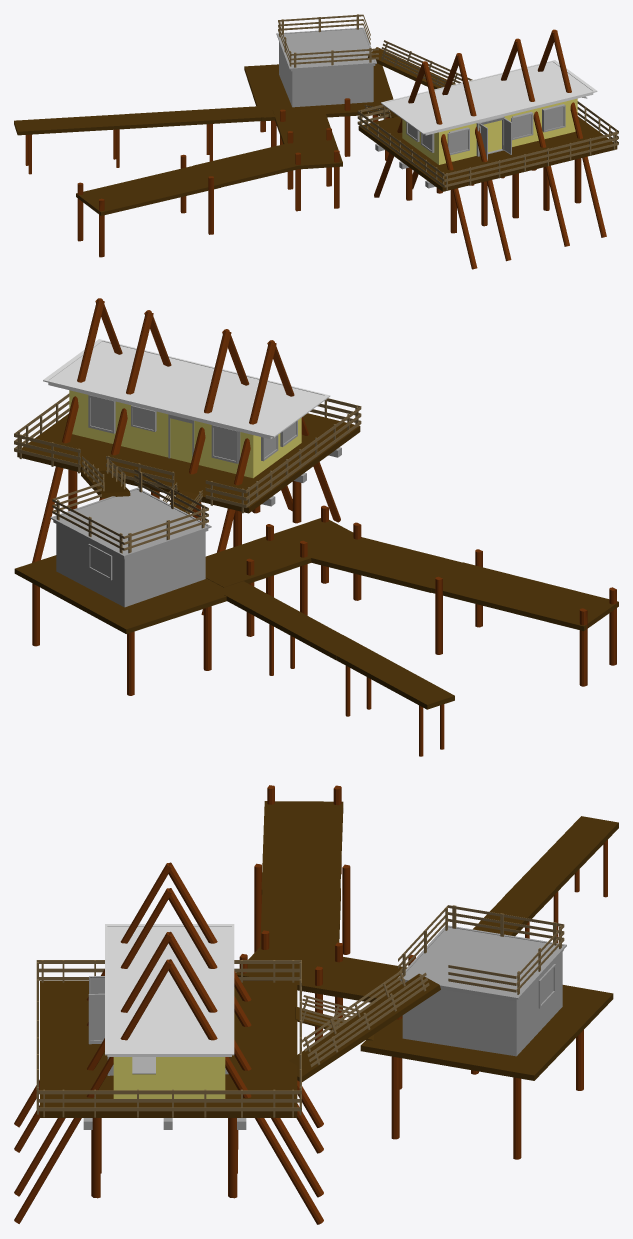
Rendered from A-FrameLigth 1.fbx.
The picture shows the model from 3 angles, top to bottom: view 1: azimuth 30°, elevation 25°; view 2: azimuth 150°, elevation 25°; view 3: azimuth 270°, elevation 25°; orthographic projection. The views are drawn at different scales.
Visible parts, largest first — view 1: pPlane3, pCube268, pCube49, pCube48, pCube50, pCube168, pCube169, pCube170; view 2: pPlane3, pCube166, pCube112, pCube31, pCube268, pCube184, pCube236; view 3: pPlane3, pCube268, pCube42, pCube40, pCube41, pCube142, pCube44.
Part boxes in pixels (x1,y1,x2,y2): pPlane3: [14, 27, 617, 269]; pCube268: [368, 47, 455, 89]; pCube49: [444, 143, 618, 187]; pCube48: [444, 137, 618, 181]; pCube50: [444, 132, 618, 176]; pCube168: [543, 104, 565, 132]; pCube169: [511, 112, 533, 140]; pCube170: [447, 128, 469, 155]; pPlane3: [14, 298, 618, 756]; pCube166: [211, 425, 238, 463]; pCube112: [88, 395, 114, 433]; pCube31: [14, 433, 245, 493]; pCube268: [81, 470, 130, 498]; pCube184: [14, 441, 246, 500]; pCube236: [88, 544, 112, 580]; pPlane3: [14, 785, 618, 1224]; pCube268: [288, 973, 440, 1081]; pCube42: [38, 1107, 301, 1111]; pCube40: [38, 1090, 301, 1094]; pCube41: [38, 1099, 301, 1102]; pCube142: [88, 993, 104, 1044]; pCube44: [39, 968, 299, 972].
Bounding box in the file's own units: 511 × 189 × 394.
